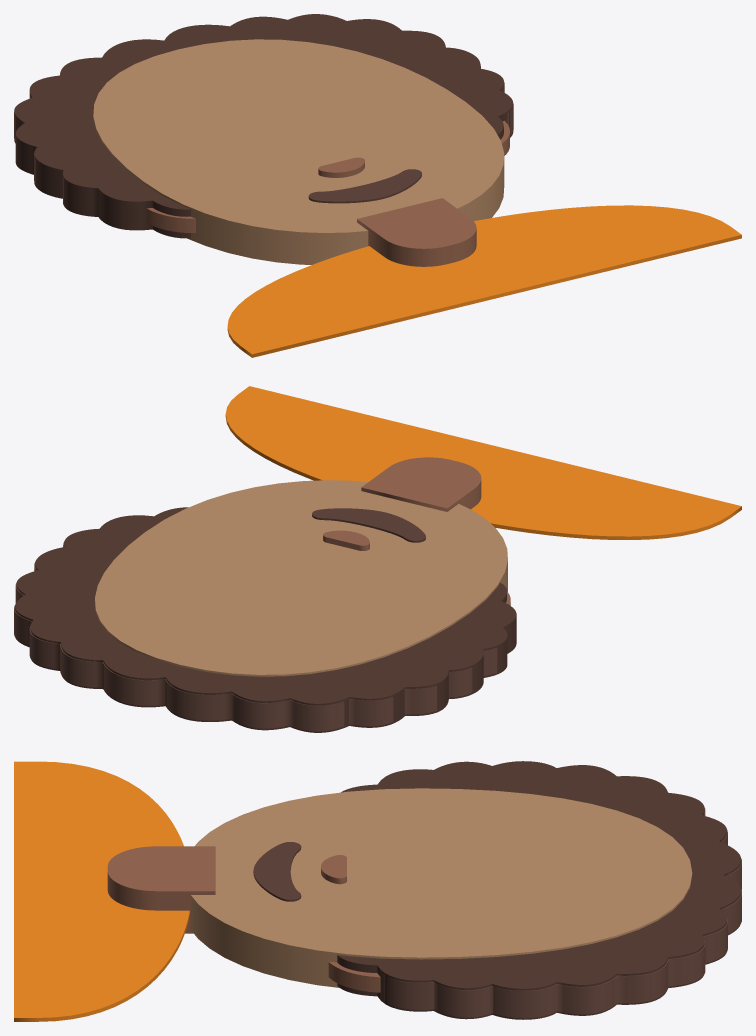
File: emoji_u1f9d1_1f3fd_200d_1f9b1.glb
3 renders of one model, top to bottom at view 1: azimuth 30°, elevation 25°; view 2: azimuth 150°, elevation 25°; view 3: azimuth 270°, elevation 25°, orthographic. The views are drawn at different scales.
Parts seen in each view (by area): view 1: emoji_u1f9d1_1f3fd_200d_1f9b1; view 2: emoji_u1f9d1_1f3fd_200d_1f9b1; view 3: emoji_u1f9d1_1f3fd_200d_1f9b1.
Boxes of the visible parts, left/top/right/bottom form: emoji_u1f9d1_1f3fd_200d_1f9b1: left=14, top=14, right=741, bottom=357; emoji_u1f9d1_1f3fd_200d_1f9b1: left=14, top=386, right=741, bottom=732; emoji_u1f9d1_1f3fd_200d_1f9b1: left=14, top=761, right=741, bottom=1021.
Bounding box in the file's own units: 0.0284 × 0.0024 × 0.0341.
